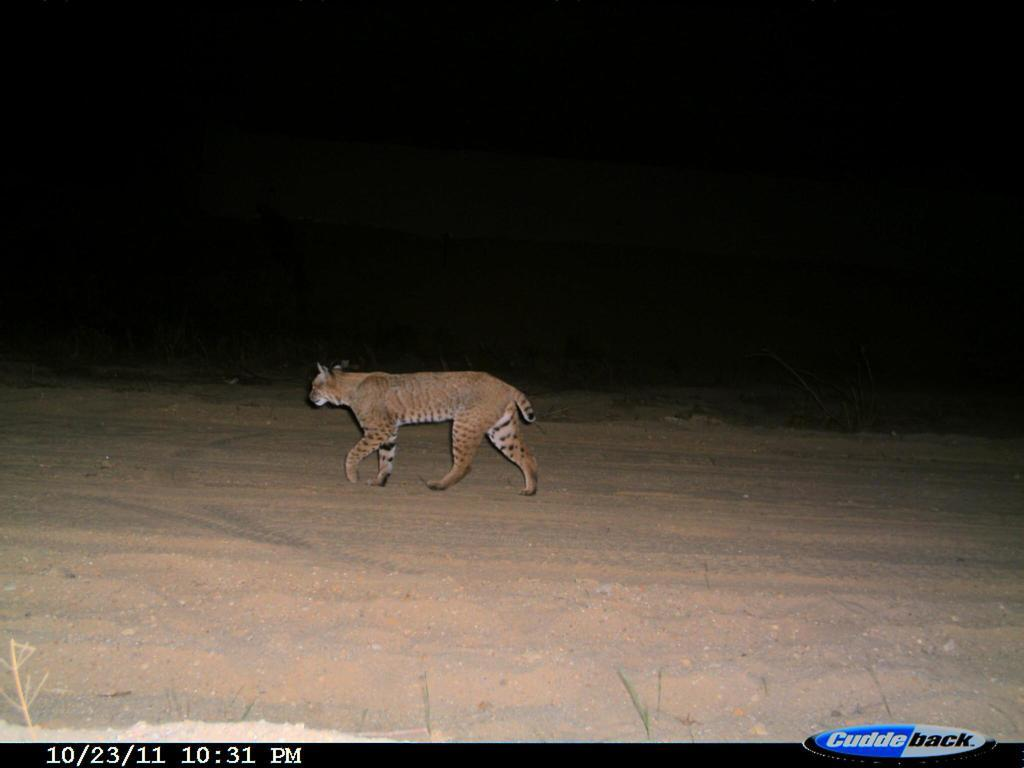bobcat: (301, 354, 555, 496)
